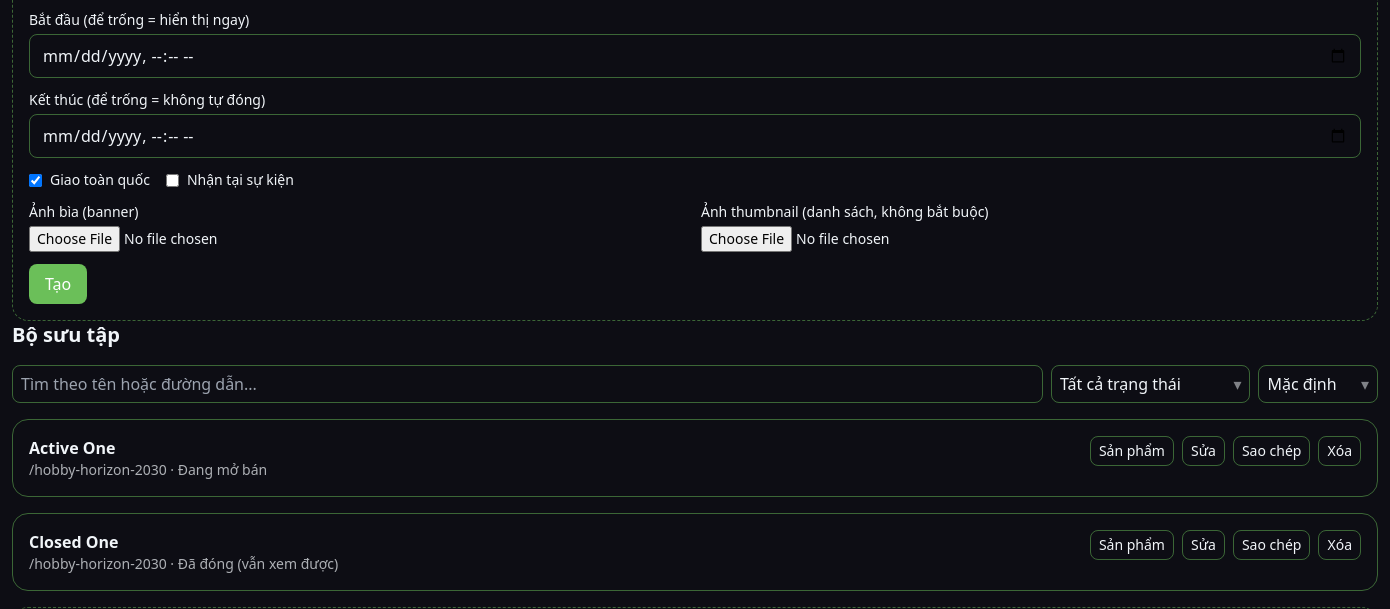
AdminCollections - search, filter, sort › filters the list by status
The image size is (1390, 609).
(page scrolled)
Click the button with aria-label "Tất cả trạng thái": (1151, 384) [1051, 365, 1250, 403]
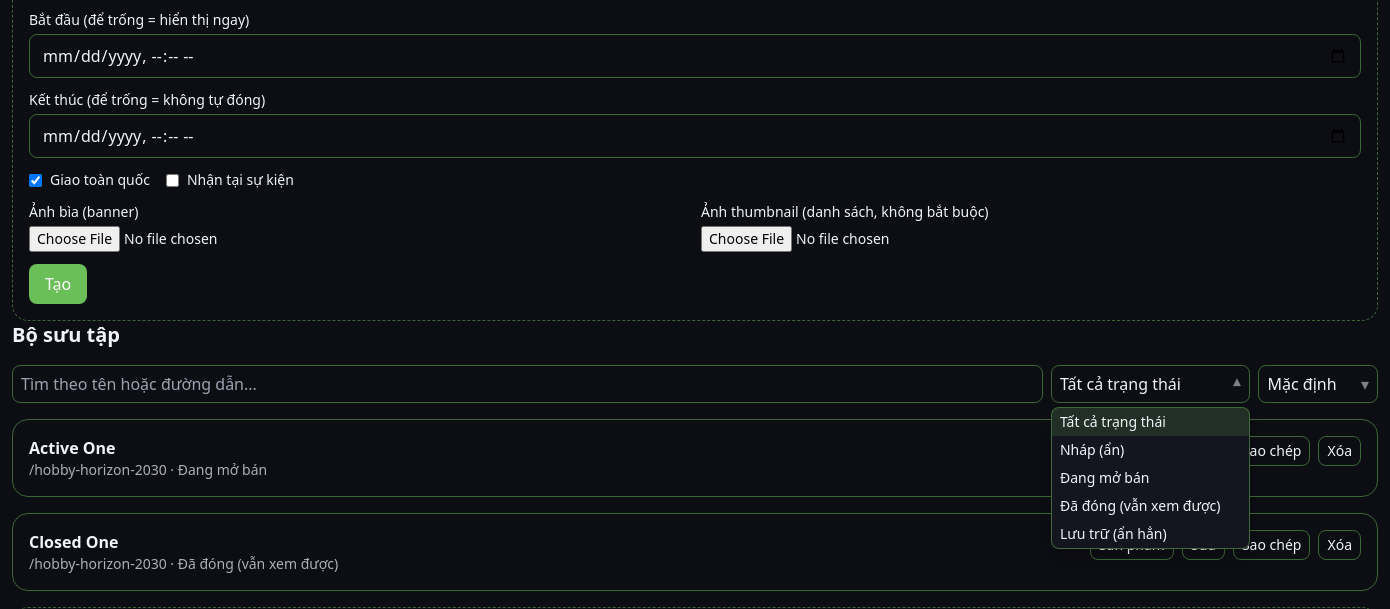
Click the button "Đã đóng (vẫn xem được)": (1151, 506) [1052, 492, 1249, 520]
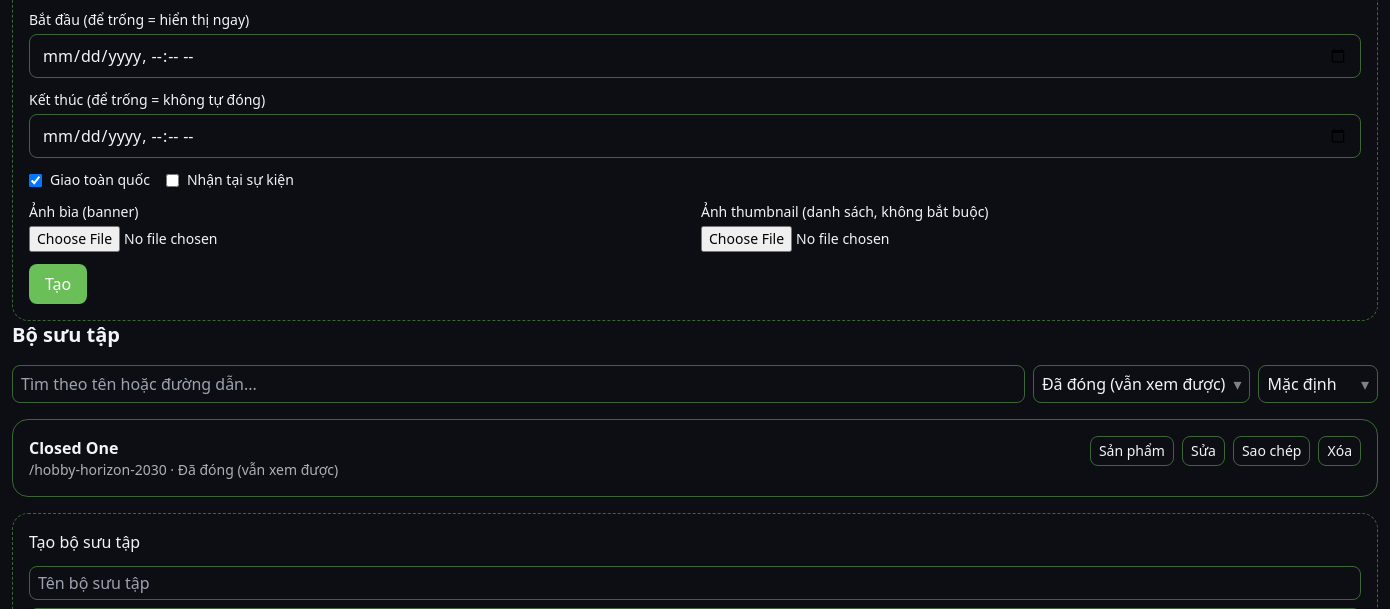
Check: the text "Closed One" is shown, box [29, 437, 118, 459]
Check: the text "Active One" is gone
